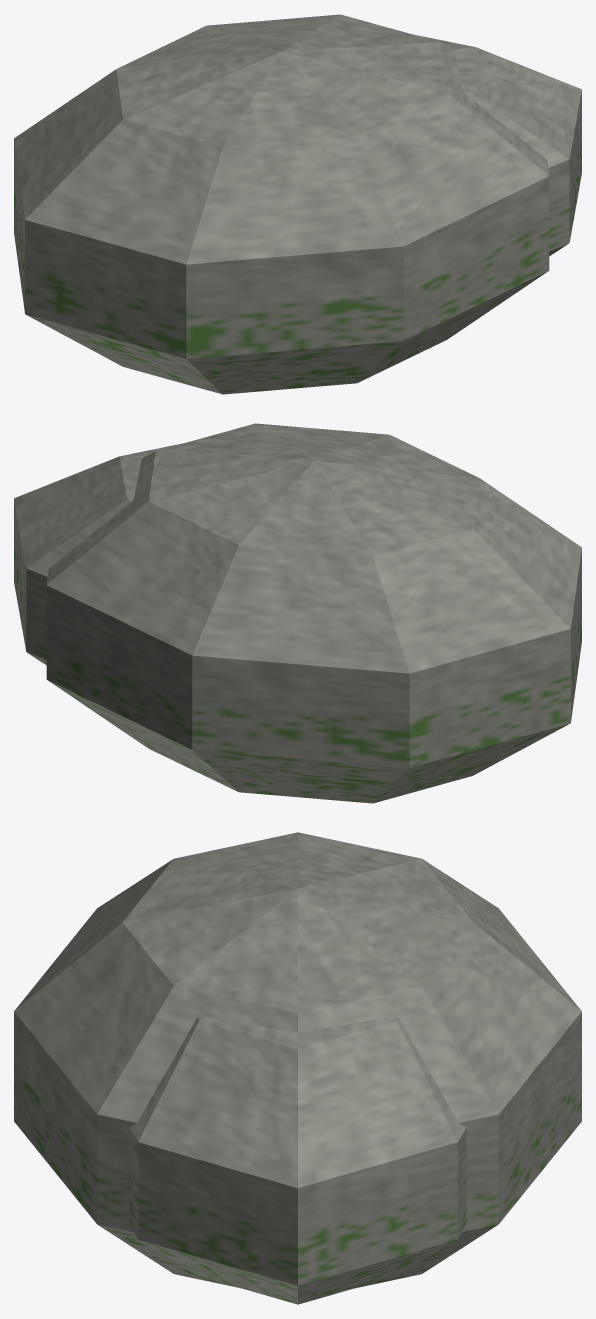
File: prop_batu_b.glb
3 views of the same model, one above another, from view 1: azimuth 30°, elevation 25°; view 2: azimuth 150°, elevation 25°; view 3: azimuth 270°, elevation 25° (orthographic). The views are drawn at different scales.
Parts seen in each view (by area): view 1: batu_b; view 2: batu_b; view 3: batu_b.
Part boxes in pixels (x1,y1,x2,y2): batu_b: [14, 14, 581, 394]; batu_b: [14, 423, 581, 803]; batu_b: [14, 832, 581, 1304].
Size of the model in its own units: 1.13 by 0.5924 by 0.8568.
Materials: 1 (1 with a texture image).
